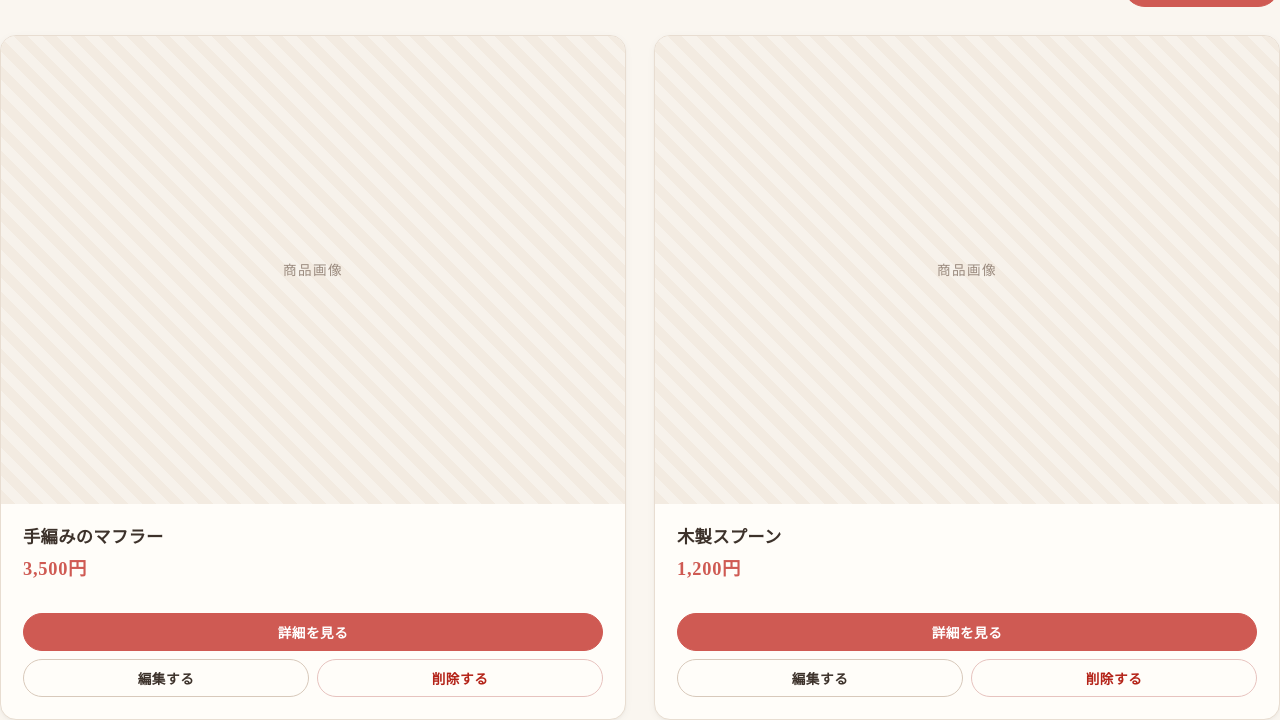
Test: 商品一覧画面：商品削除 › 購入された商品の場合（409）は、削除できない旨を表示し、商品は一覧に残る
(page scrolled)
What coordinates should you click on to do the following:
click the button with aria-label "木製スプーンを削除する"
I would click on:
 (1114, 678)
Its box is [971,659,1257,697].
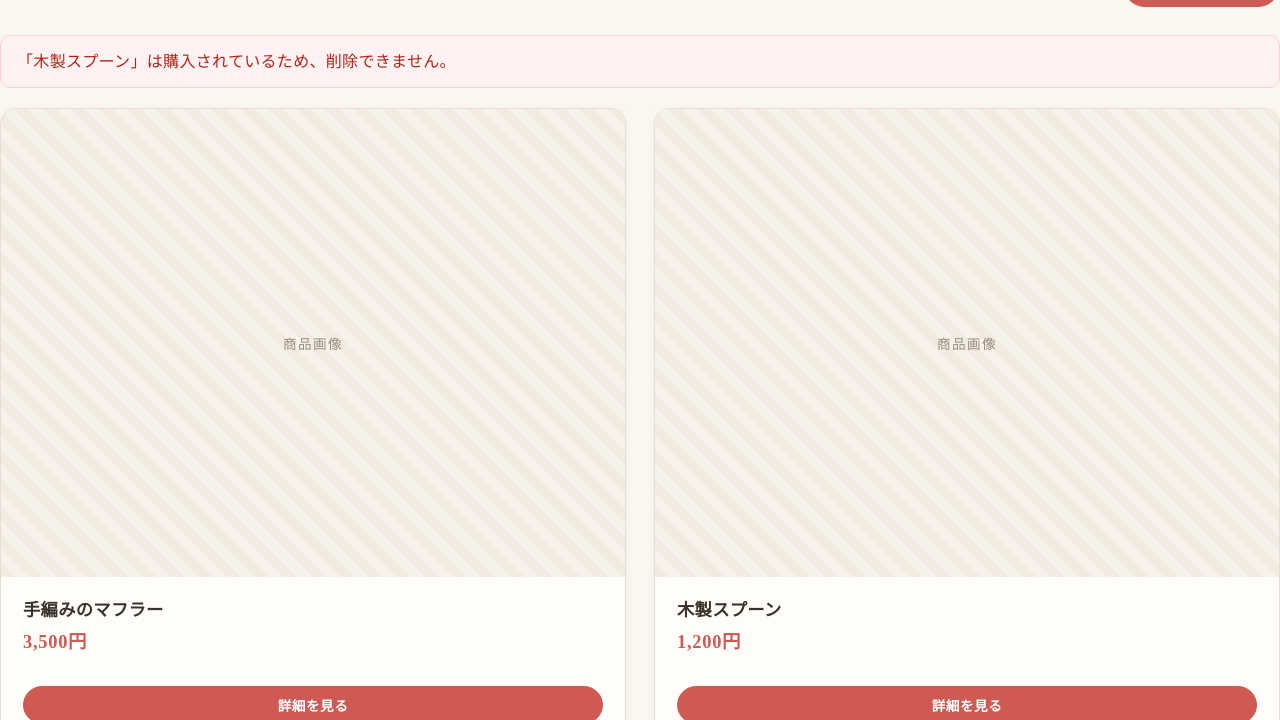
Expected: the heading "木製スプーン" is shown, [677,598,782,621]
Result: the text "「木製スプーン」は購入されているため、削除できません。" is shown at [0,35,1279,88]
